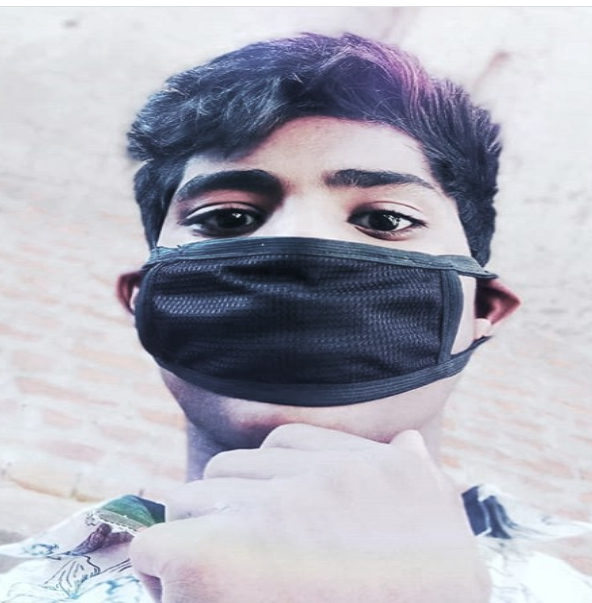mask_weared_incorrect: (113, 34, 515, 457)
